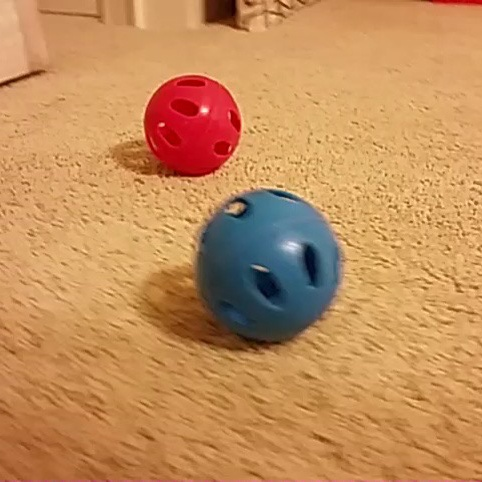ball: (190, 183, 346, 349), (140, 71, 246, 179)
